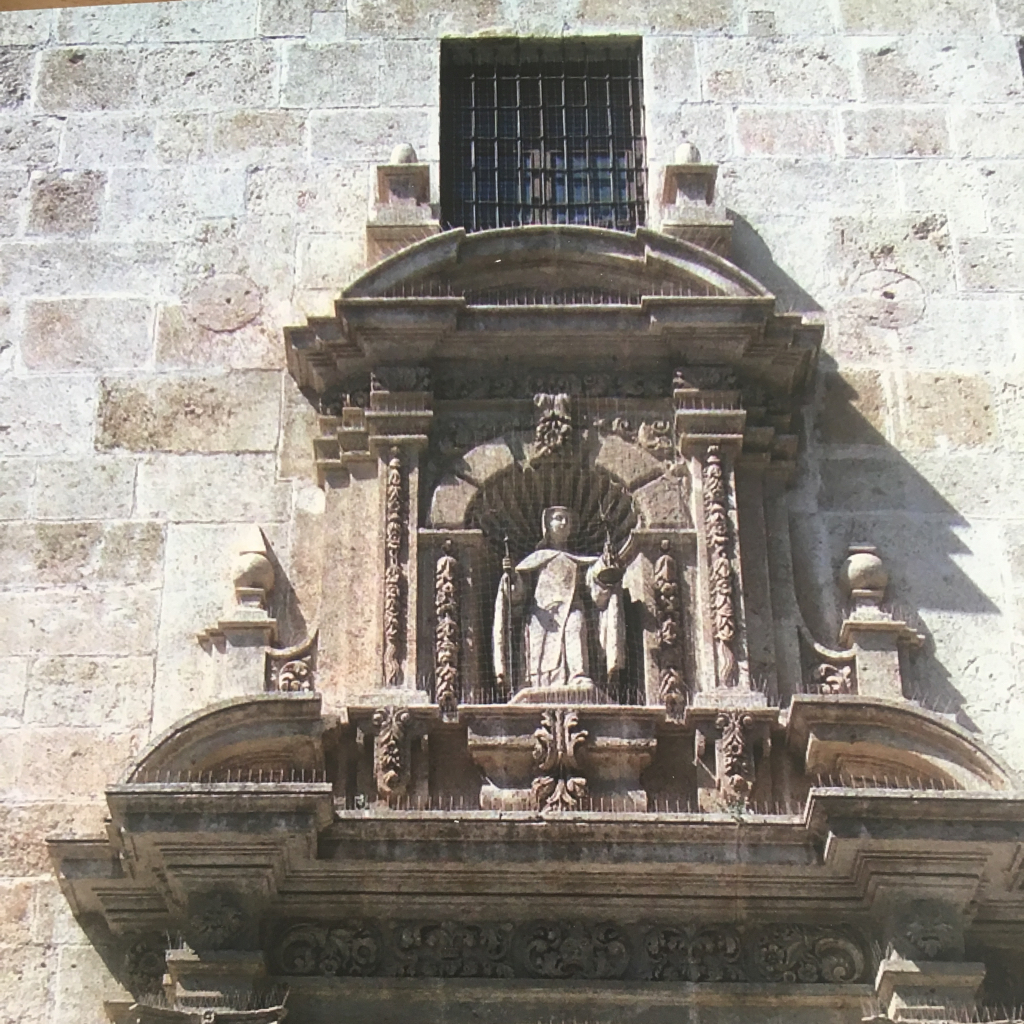fronton-partido: (94, 676, 1024, 831), (321, 212, 783, 331)
